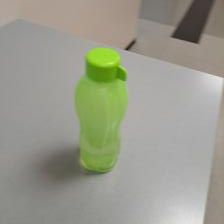bottle: (74, 45, 129, 177)
